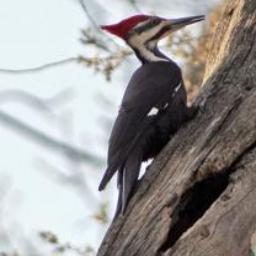Woodpecker: (96, 14, 210, 219)
